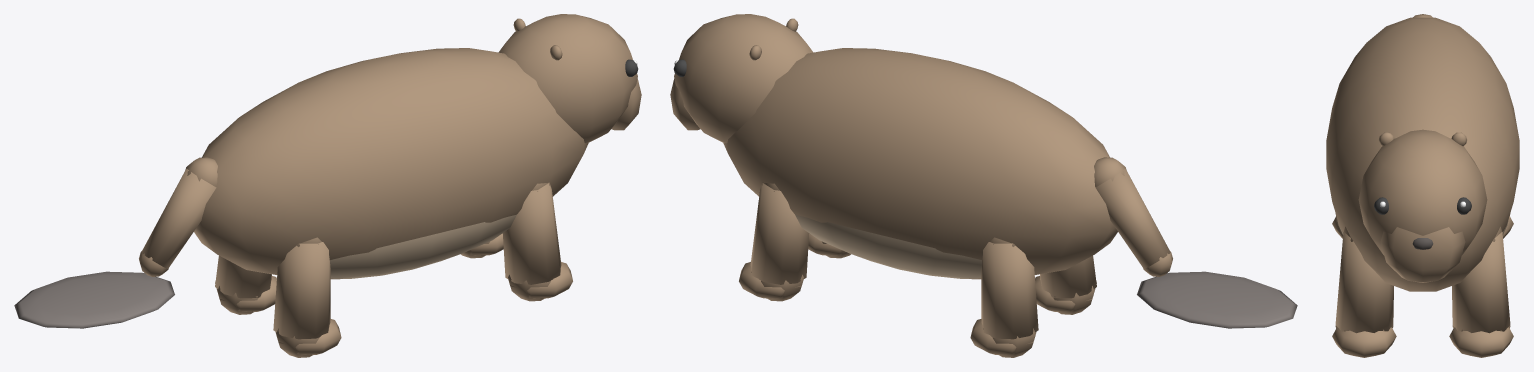
The model's file is american-beaver.glb.
The picture shows the model from 3 angles, left to right: view 1: azimuth 30°, elevation 25°; view 2: azimuth 150°, elevation 25°; view 3: azimuth 270°, elevation 25°; orthographic projection.
Parts seen in each view (by area): view 1: e, e.016, e.025, e.008, e.002, e.011, e.005; view 2: e, e.016, e.025, e.011, e.005, e.008, e.002; view 3: e, e.016, e.002, e.005.
Boxes of the visible parts, box(x1,y1,x2,y2) form: e: box(194, 48, 588, 279); e.016: box(498, 14, 641, 143); e.025: box(14, 157, 217, 328); e.008: box(273, 237, 341, 357); e.002: box(502, 182, 572, 301); e.011: box(215, 255, 276, 314); e.005: box(461, 233, 503, 258); e: box(723, 48, 1117, 279); e.016: box(670, 14, 813, 143); e.025: box(1094, 157, 1297, 328); e.011: box(970, 237, 1038, 357); e.005: box(739, 182, 809, 301); e.008: box(1035, 255, 1096, 314); e.002: box(808, 233, 850, 258); e: box(1326, 17, 1519, 291); e.016: box(1358, 129, 1487, 282); e.002: box(1332, 226, 1396, 357); e.005: box(1449, 226, 1513, 357).
Size of the model in its own units: 1.23 by 0.4654 by 0.3365.
